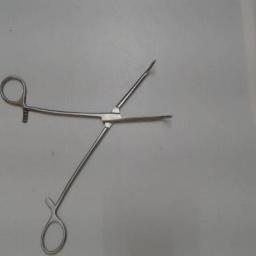Lahey Forceps: (1, 51, 177, 255)
